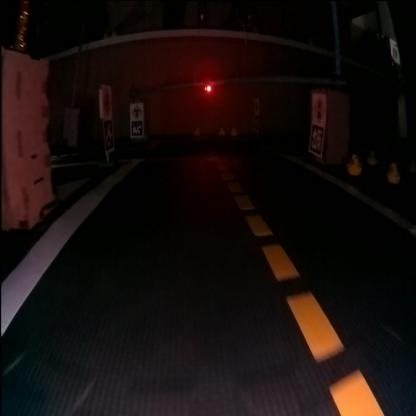Duckie: (346, 154, 362, 172), (388, 161, 400, 182), (366, 149, 378, 163), (231, 126, 236, 134), (219, 126, 224, 134), (194, 126, 199, 134)
Intersection sign: (102, 88, 110, 114), (130, 103, 142, 117)
QR code: (310, 122, 324, 152), (103, 118, 113, 149), (130, 118, 142, 134)
Signal sign: (313, 96, 325, 122)
Traffic light: (204, 82, 210, 90)
